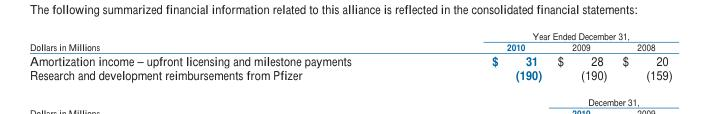table: (28, 28, 671, 83)
table column: (28, 28, 421, 83), (421, 28, 548, 83), (548, 28, 614, 83), (614, 28, 671, 83)
table column header: (28, 28, 671, 52)
table row: (28, 67, 671, 83), (28, 52, 671, 67), (28, 28, 671, 40), (28, 40, 671, 52)
table spanning cell: (28, 28, 421, 52), (421, 28, 671, 40)
